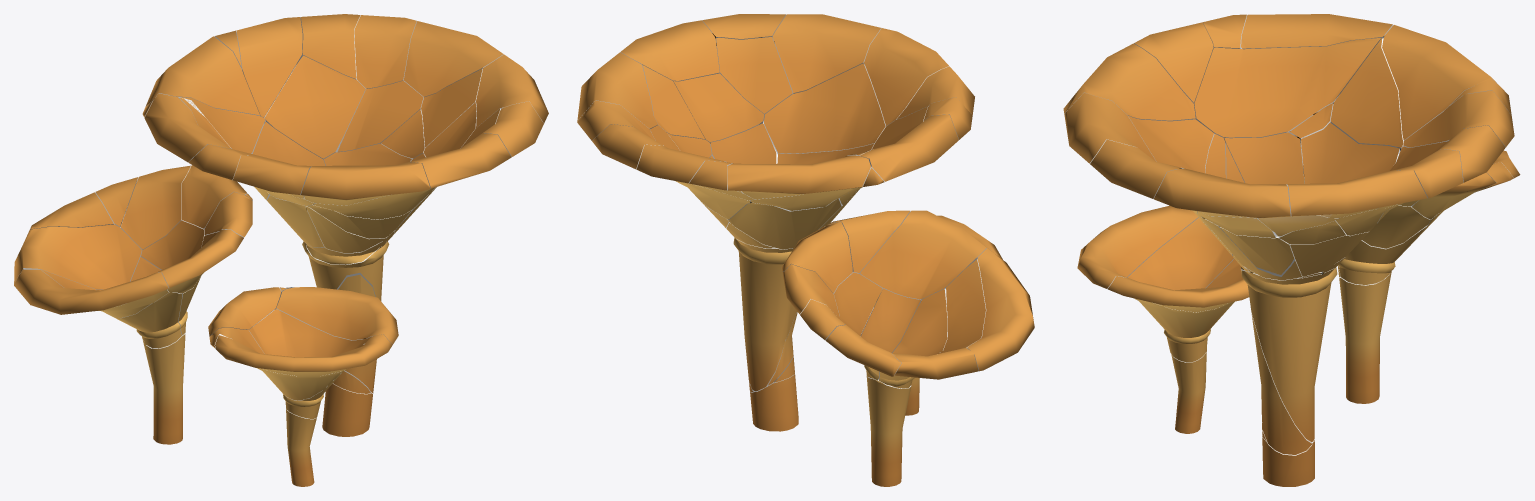
Rendered from Sliced_Mashroom-50.fbx.
3 renders of one model, left to right at view 1: azimuth 30°, elevation 25°; view 2: azimuth 150°, elevation 25°; view 3: azimuth 270°, elevation 25°, orthographic. The views are drawn at different scales.
Parts seen in each view (by area): view 1: Mushroom_cell.037, Mushroom_cell.010, Mushroom_cell.023, Mushroom_cell.049, Mushroom_cell.001, Mushroom_cell.007, Mushroom_cell.038, Mushroom_cell.039, Mushroom_cell.017, Mushroom_cell.044, Mushroom_cell.022, Mushroom_cell.040 (+36 smaller); view 2: Mushroom_cell.016, Mushroom_cell.053, Mushroom_cell.036, Mushroom_cell.031, Mushroom_cell.017, Mushroom_cell.023, Mushroom_cell.038, Mushroom_cell.034, Mushroom_cell.006, Mushroom_cell.025, Mushroom_cell.035, Mushroom_cell.041 (+28 smaller); view 3: Mushroom_cell.048, Mushroom_cell.036, Mushroom_cell.023, Mushroom_cell.038, Mushroom_cell.011, Mushroom_cell.002, Mushroom_cell.034, Mushroom_cell.035, Mushroom_cell.001, Mushroom_cell.015, Mushroom_cell.041, Mushroom_cell.018 (+28 smaller).
Part boxes in pixels (box(x1,y1,x2,y2)): Mushroom_cell.037: box(264, 55, 365, 159); Mushroom_cell.010: box(14, 224, 141, 289); Mushroom_cell.023: box(145, 36, 260, 115); Mushroom_cell.049: box(275, 287, 398, 344); Mushroom_cell.001: box(404, 21, 503, 97); Mushroom_cell.007: box(236, 17, 302, 117); Mushroom_cell.038: box(301, 162, 430, 205); Mushroom_cell.039: box(249, 309, 371, 418); Mushroom_cell.017: box(14, 269, 168, 314); Mushroom_cell.044: box(354, 15, 416, 88); Mushroom_cell.022: box(120, 165, 190, 250); Mushroom_cell.040: box(337, 80, 423, 152); Mushroom_cell.016: box(763, 63, 885, 154); Mushroom_cell.053: box(858, 210, 989, 300); Mushroom_cell.036: box(733, 237, 796, 391); Mushroom_cell.031: box(772, 14, 881, 93); Mushroom_cell.017: box(967, 248, 1034, 371); Mushroom_cell.023: box(727, 155, 870, 199); Mushroom_cell.038: box(864, 28, 948, 126); Mushroom_cell.034: box(620, 20, 719, 81); Mushroom_cell.006: box(715, 37, 792, 120); Mushroom_cell.025: box(673, 73, 764, 142); Mushroom_cell.035: box(866, 375, 911, 486); Mushroom_cell.041: box(860, 114, 958, 181); Mushroom_cell.048: box(1193, 37, 1381, 138); Mushroom_cell.036: box(1241, 267, 1337, 442); Mushroom_cell.023: box(1382, 25, 1497, 140); Mushroom_cell.038: box(1063, 43, 1195, 121); Mushroom_cell.011: box(1077, 205, 1197, 289); Mushroom_cell.002: box(1330, 37, 1403, 150); Mushroom_cell.034: box(1154, 168, 1290, 218); Mushroom_cell.035: box(1339, 269, 1393, 403); Mushroom_cell.001: box(1287, 170, 1427, 217); Mushroom_cell.015: box(1127, 217, 1234, 312); Mushroom_cell.041: box(1241, 14, 1393, 49); Mushroom_cell.018: box(1301, 122, 1400, 183).
Bounding box in the file's own units: 175 × 123 × 136.
